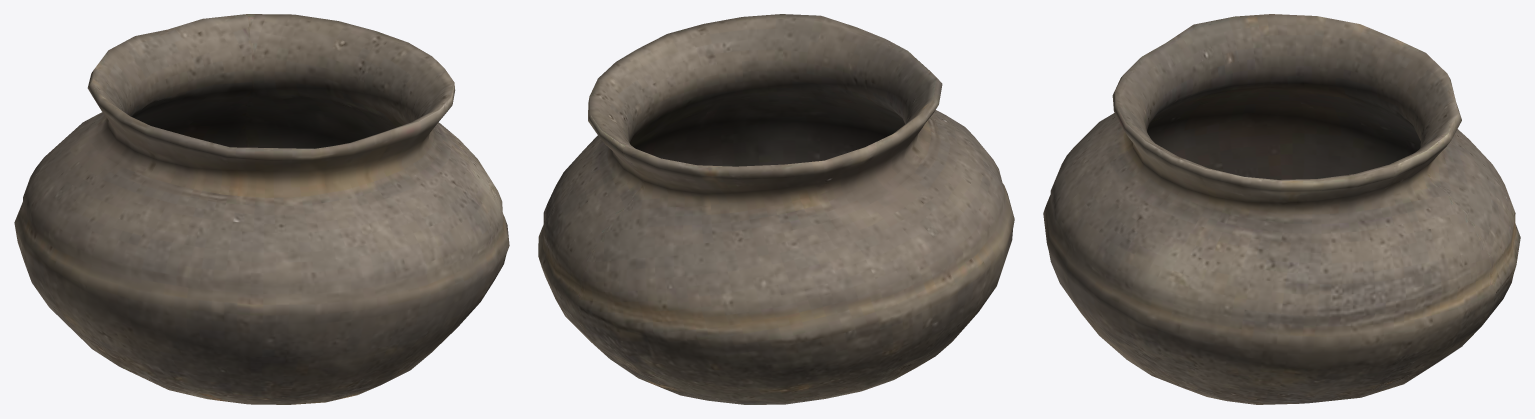
File: antiquity4_42.fbx
3 renders of one model, left to right at view 1: azimuth 30°, elevation 25°; view 2: azimuth 150°, elevation 25°; view 3: azimuth 270°, elevation 25°, orthographic. The views are drawn at different scales.
Visible parts, largest first — view 1: Box001; view 2: Box001; view 3: Box001.
Part boxes in pixels (x1,y1,x2,y2): Box001: (14,14,509,404); Box001: (538,14,1014,404); Box001: (1043,14,1520,404).
Size of the model in its own units: 38.84 by 24.5 by 38.95.
1 material, 1 textured.
